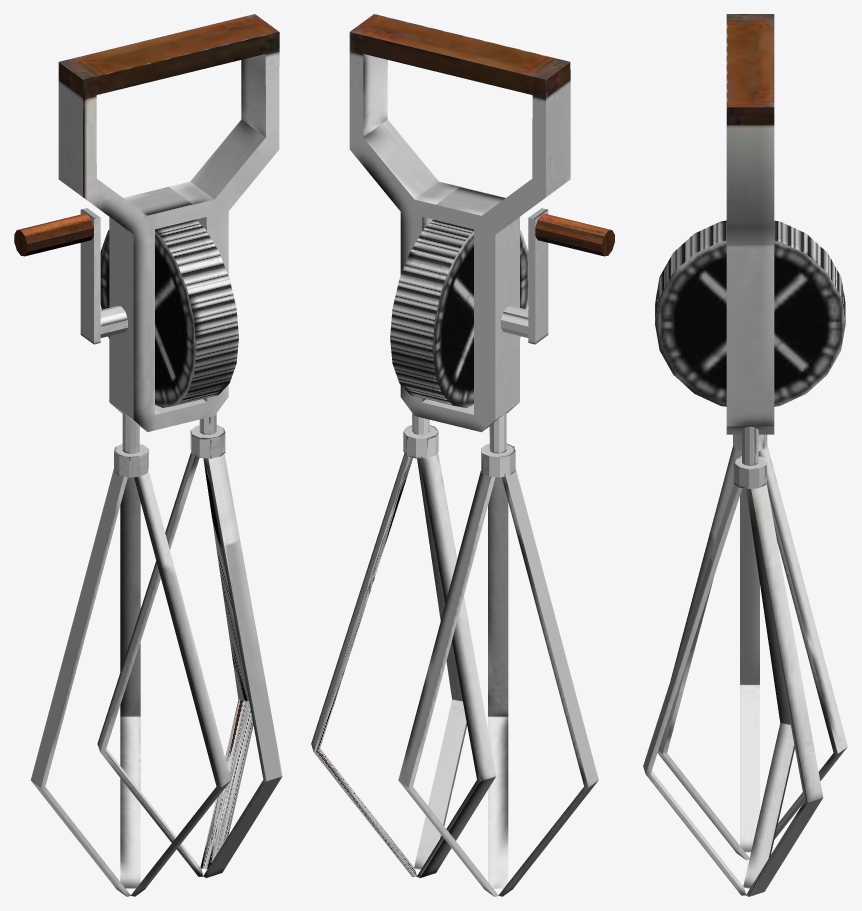
Rendered from eggBeater_080521.dae.
3 views of the same model, side by side, from view 1: azimuth 30°, elevation 25°; view 2: azimuth 150°, elevation 25°; view 3: azimuth 270°, elevation 25° (orthographic). The views are drawn at different scales.
Visible parts, largest first — view 1: polySurface12; view 2: polySurface12; view 3: polySurface12.
Part boxes in pixels (bbox=[...]): polySurface12: bbox=[14, 14, 282, 896]; polySurface12: bbox=[311, 14, 614, 896]; polySurface12: bbox=[643, 14, 847, 896].
Size of the model in its own units: 1.68 by 5.02 by 1.15.
